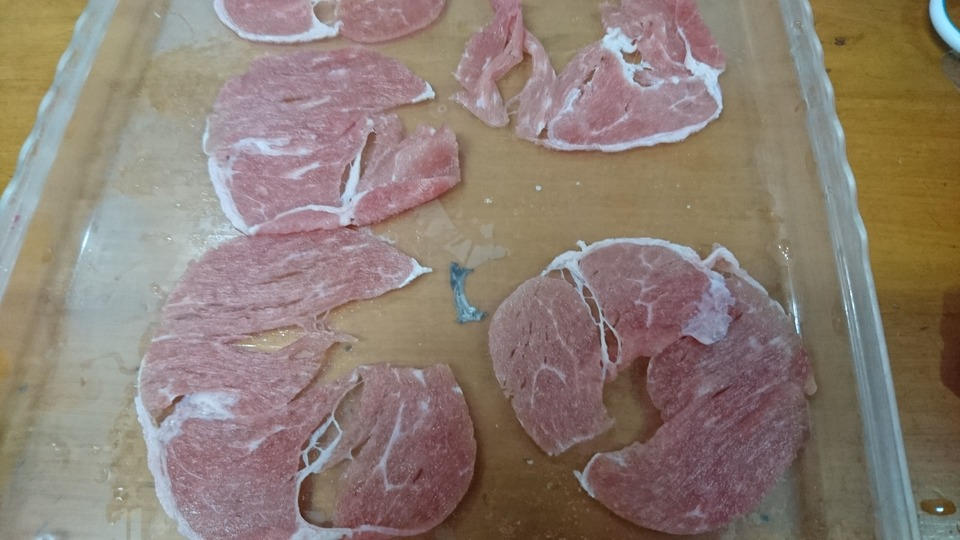restructured meat: (135, 239, 485, 537), (480, 241, 814, 531), (201, 52, 449, 224), (460, 9, 747, 146), (217, 2, 448, 43)
